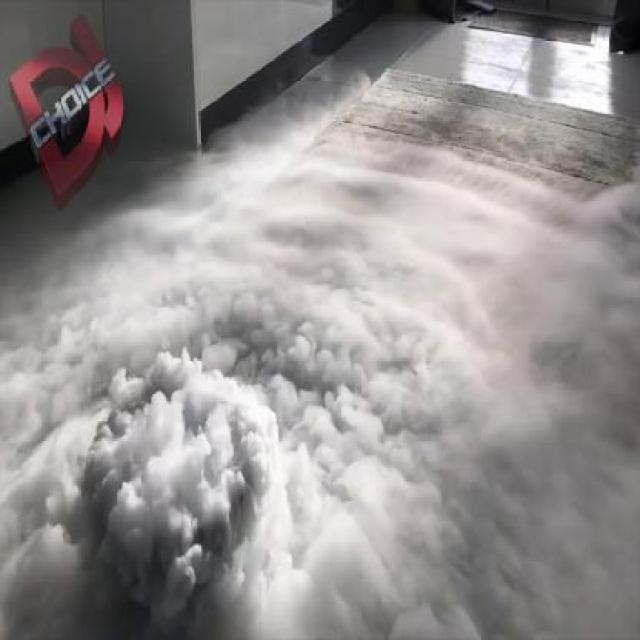smoke: (3, 167, 640, 640)
